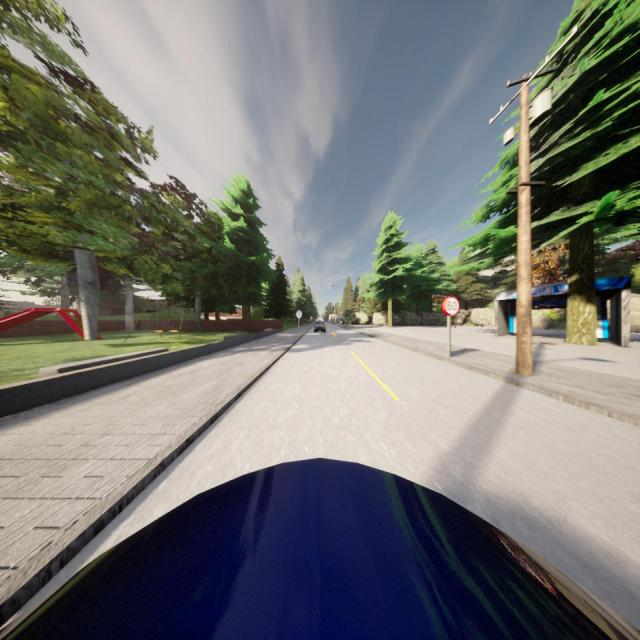Traffic_Signs: (442, 296, 460, 316), (296, 310, 302, 319), (310, 316, 313, 320)
Vehicle: (0, 456, 640, 640), (314, 320, 326, 333)
